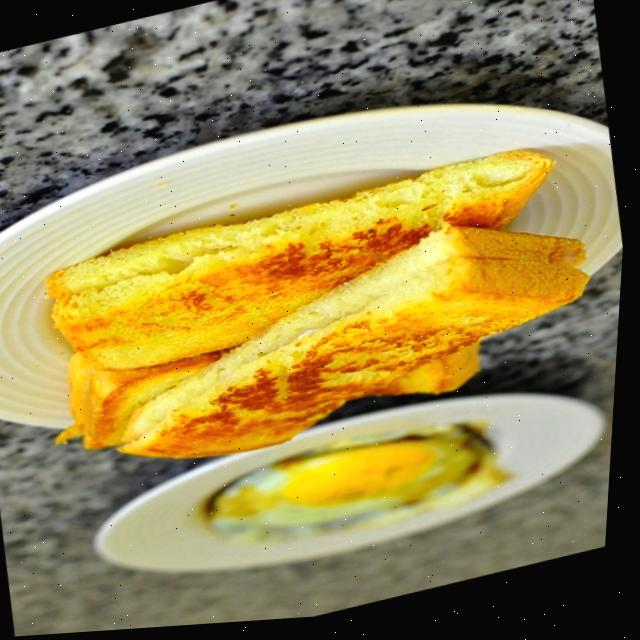面包点心: (0, 89, 630, 513)
